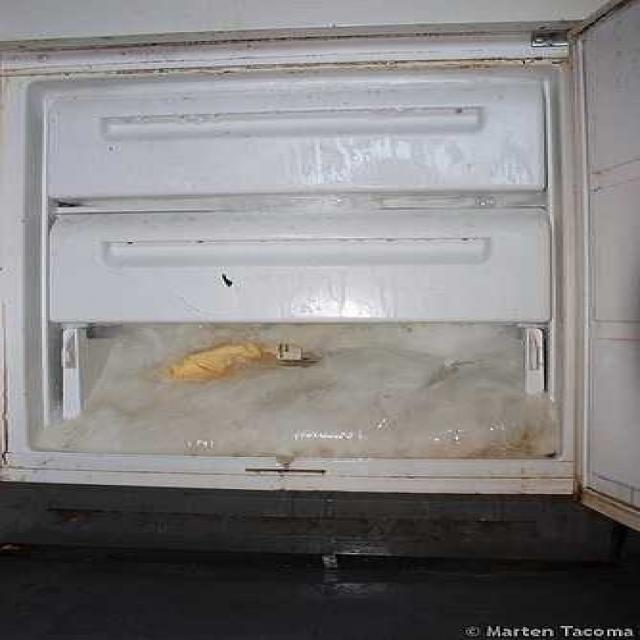refrigerator: (1, 44, 591, 501)
